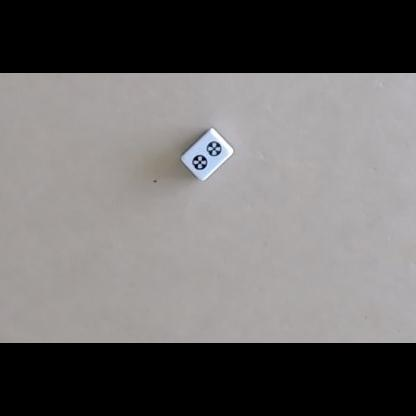2p: (192, 141, 223, 170)
